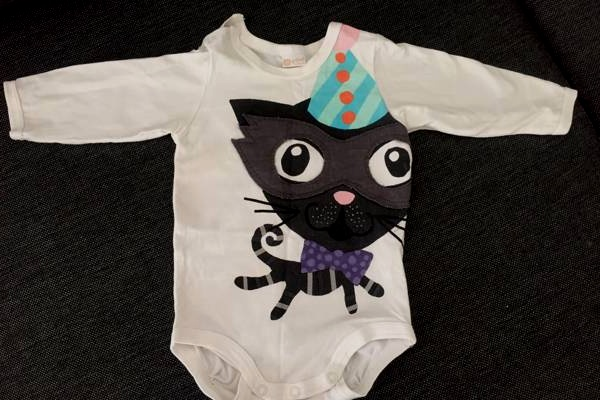Body: (10, 16, 587, 394)
